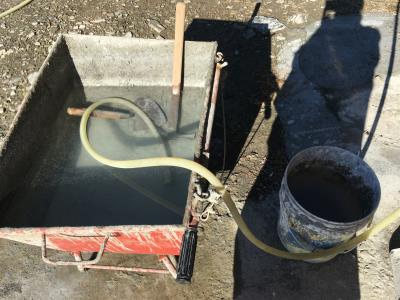bowl: (1, 30, 220, 258)
bucket: (273, 142, 384, 267)
